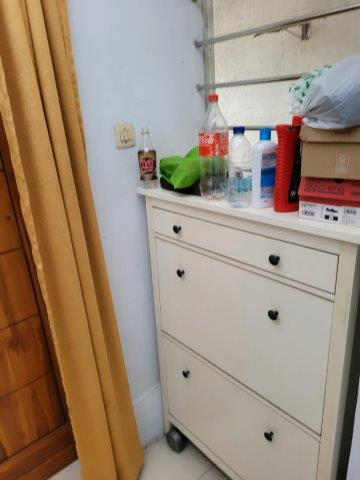botolplastik: (200, 94, 229, 197), (227, 124, 252, 208), (137, 127, 158, 186)
plastik: (288, 51, 360, 128)
